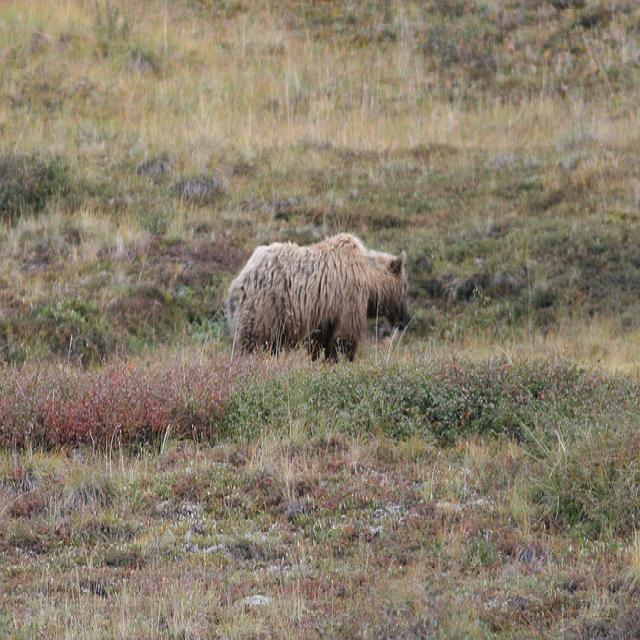Bear: (219, 228, 413, 358)
